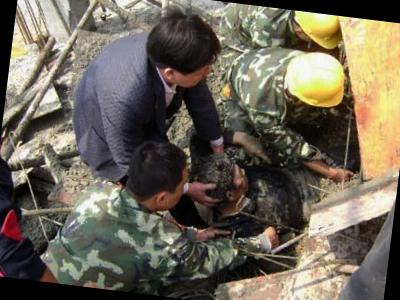no_helmet: (133, 3, 230, 98), (114, 138, 200, 215), (185, 149, 252, 217)
